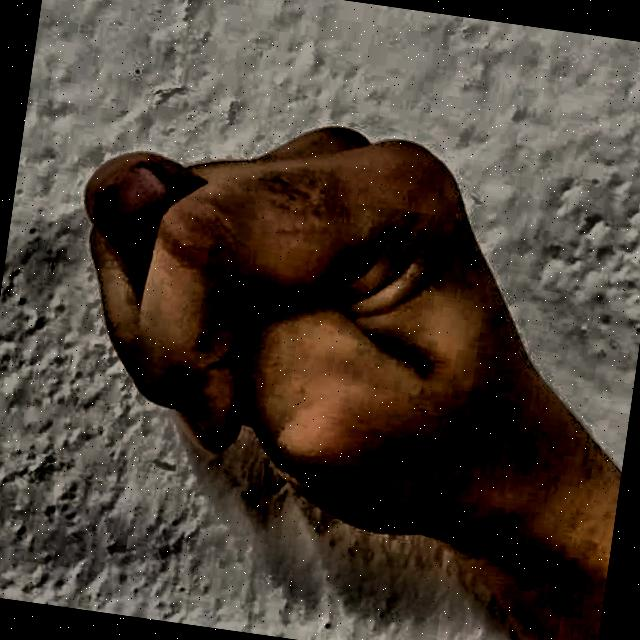Ta: (4, 27, 631, 640)
